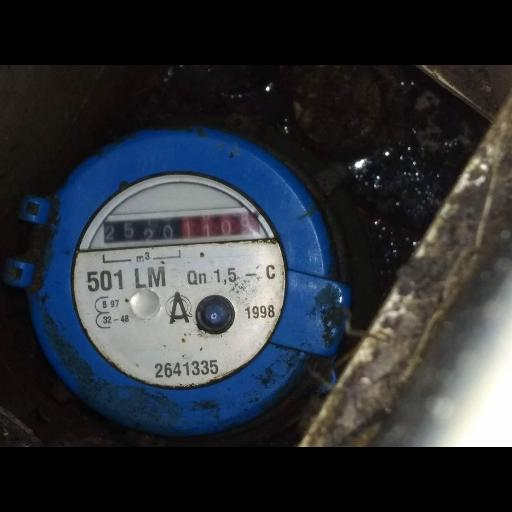0: (160, 217, 176, 240), (219, 215, 235, 237)
1: (200, 215, 215, 237), (181, 218, 195, 239)
2: (139, 219, 155, 242), (103, 222, 117, 244)
5: (121, 222, 135, 243)
8: (238, 213, 252, 236)
border_water_meter_number: (87, 206, 270, 251)
